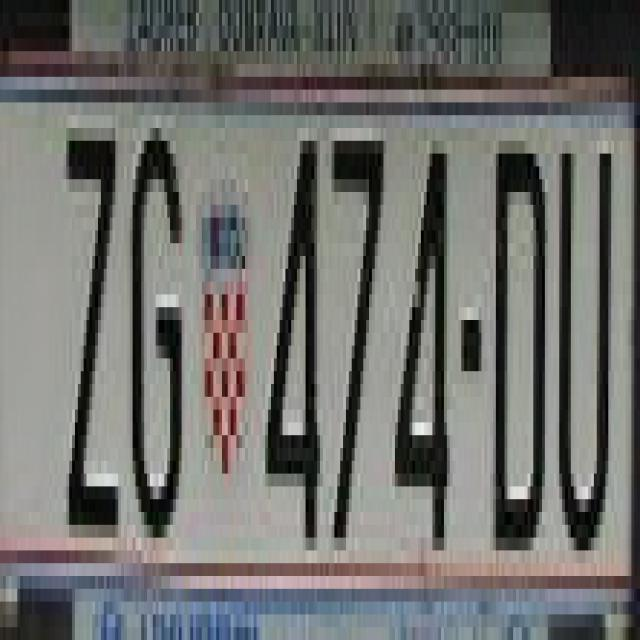4: (259, 115, 320, 576), (390, 128, 452, 563)
7: (326, 128, 380, 550)
D: (487, 102, 551, 628)
G: (124, 102, 182, 564)
U: (556, 128, 620, 576)
Z: (52, 102, 118, 550)
